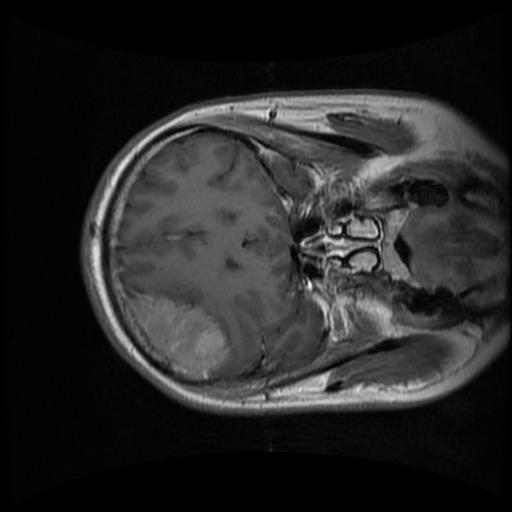meningioma: (127, 293, 229, 373)
